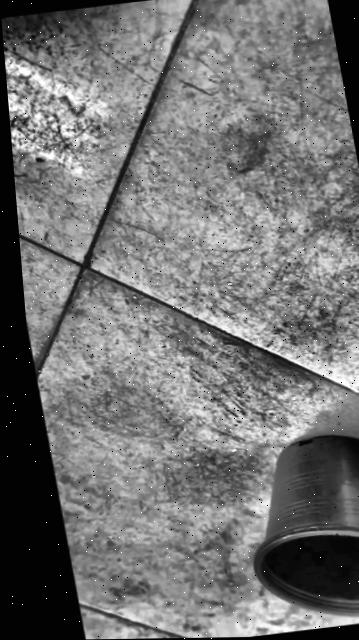pot: (229, 424, 359, 629)
